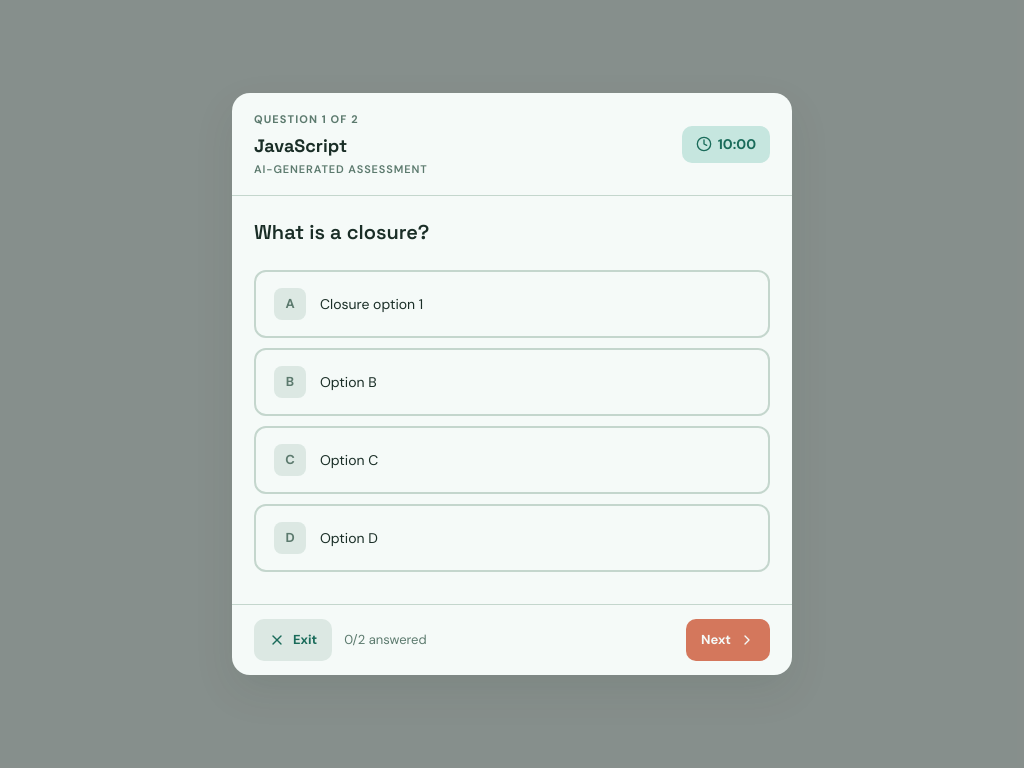
Test: AssessmentModal › submits answers and shows the completed screen
Check: the text "What is a closure?" is shown, box [254,219,429,245]
Click the text "Closure option 1".
click(372, 304)  # box [320,294,423,314]
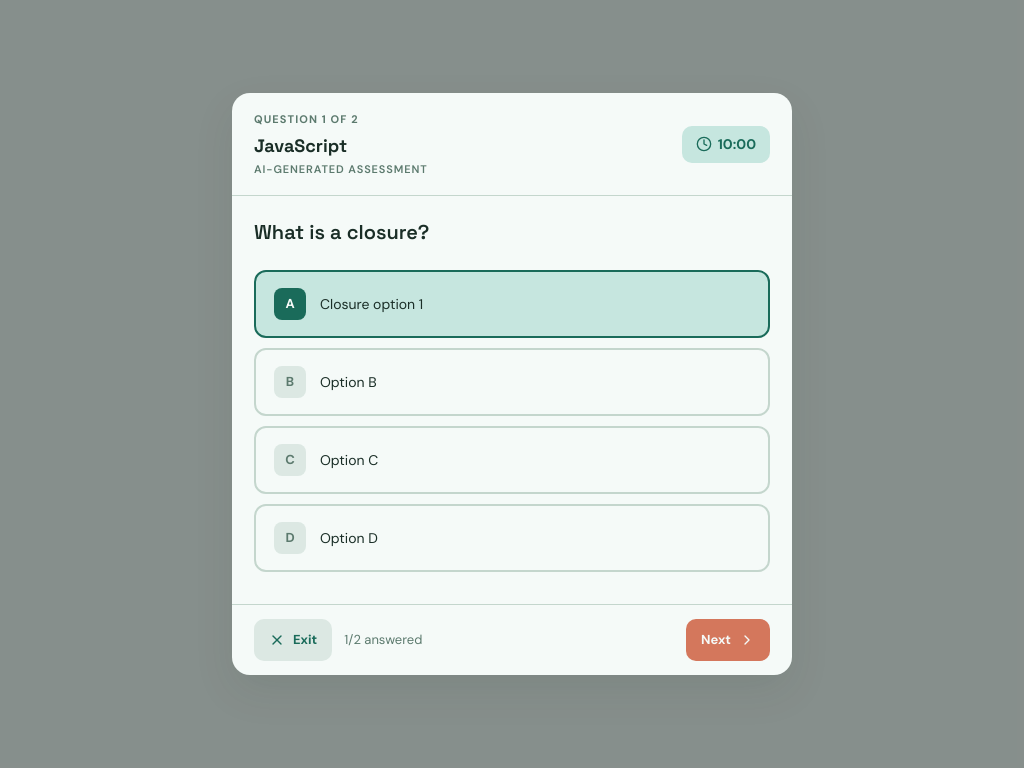
Click the button "Next".
click(728, 640)  # box [686,619,770,661]
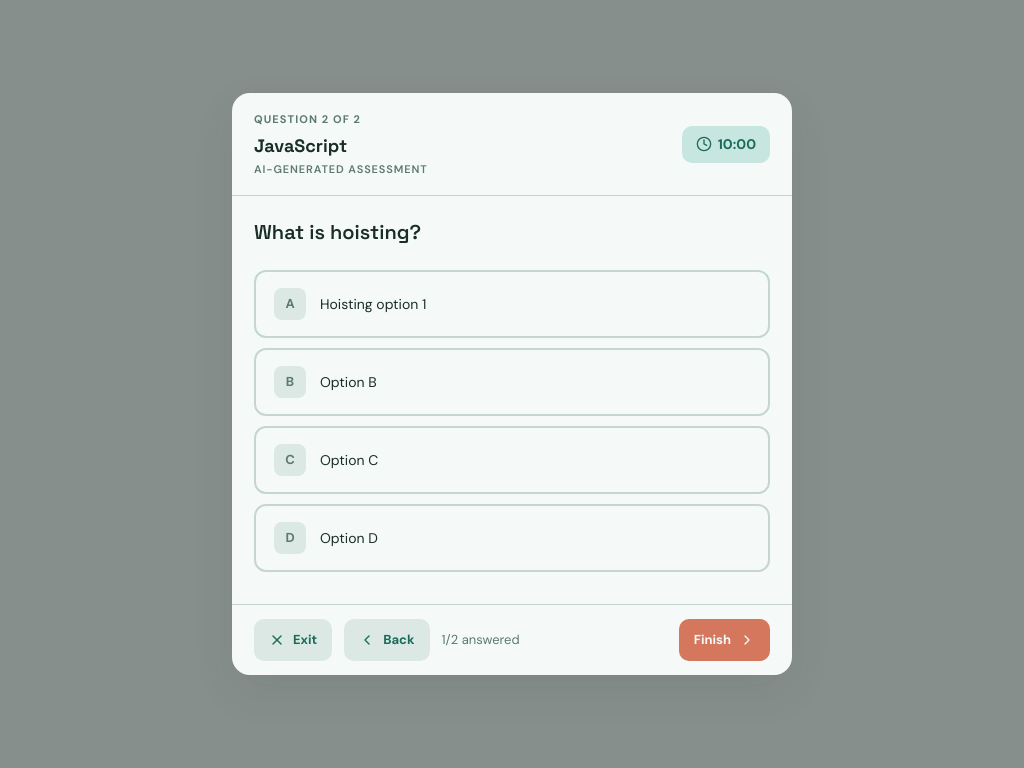
Check: the text "What is hoisting?" is shown, box [254,219,421,245]
Click the text "Hoisting option 1".
click(373, 304)  # box [320,294,426,314]
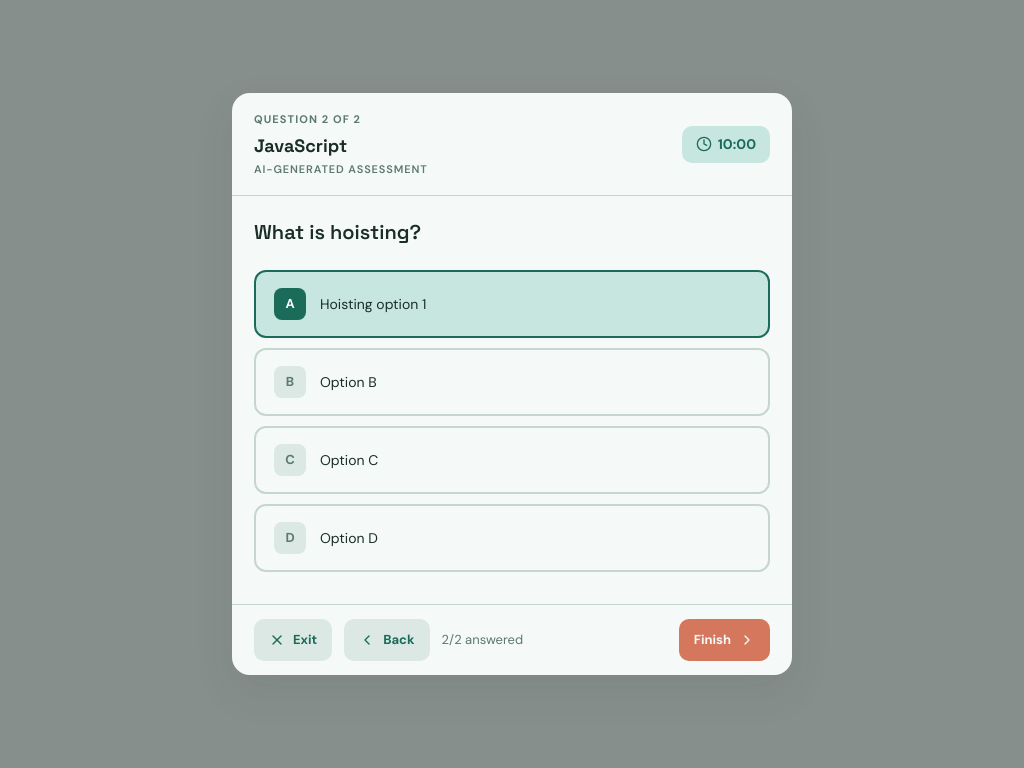
Click the button "Finish".
click(724, 640)  # box [679,619,770,661]
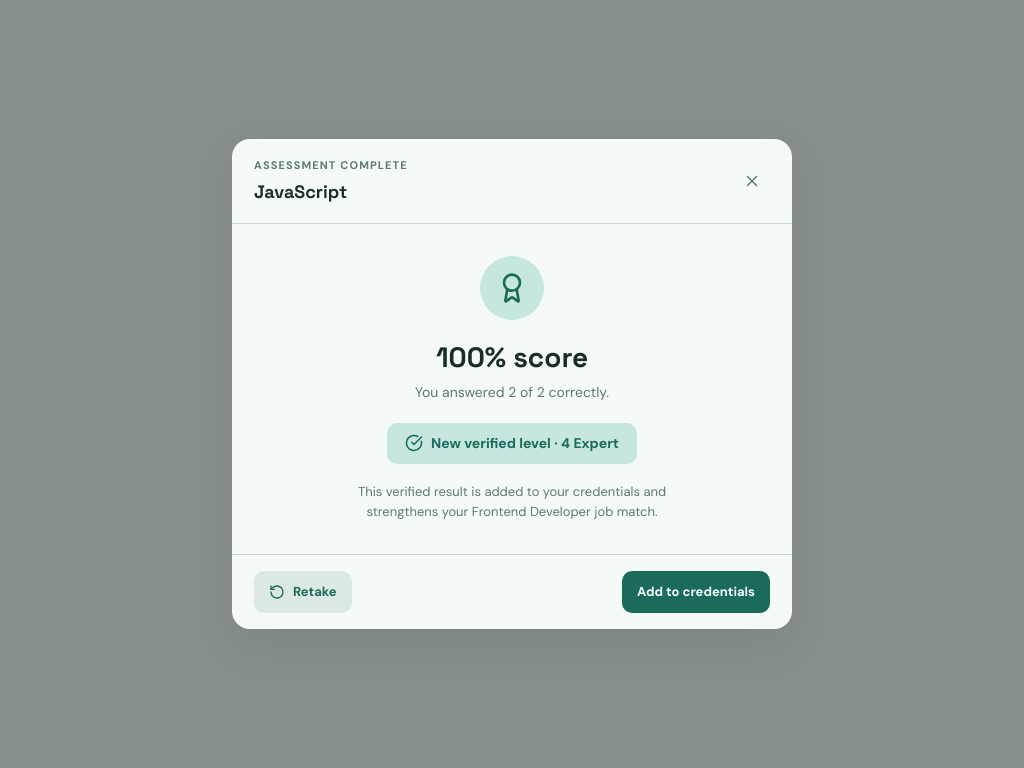
Check: the text "Assessment complete" is shown, box [254,157,408,174]
Check: the text "100% score" is shown, box [436,339,588,375]
Check: the text "You answered 2 of 2 correctly." is shown, box [415,383,609,401]
